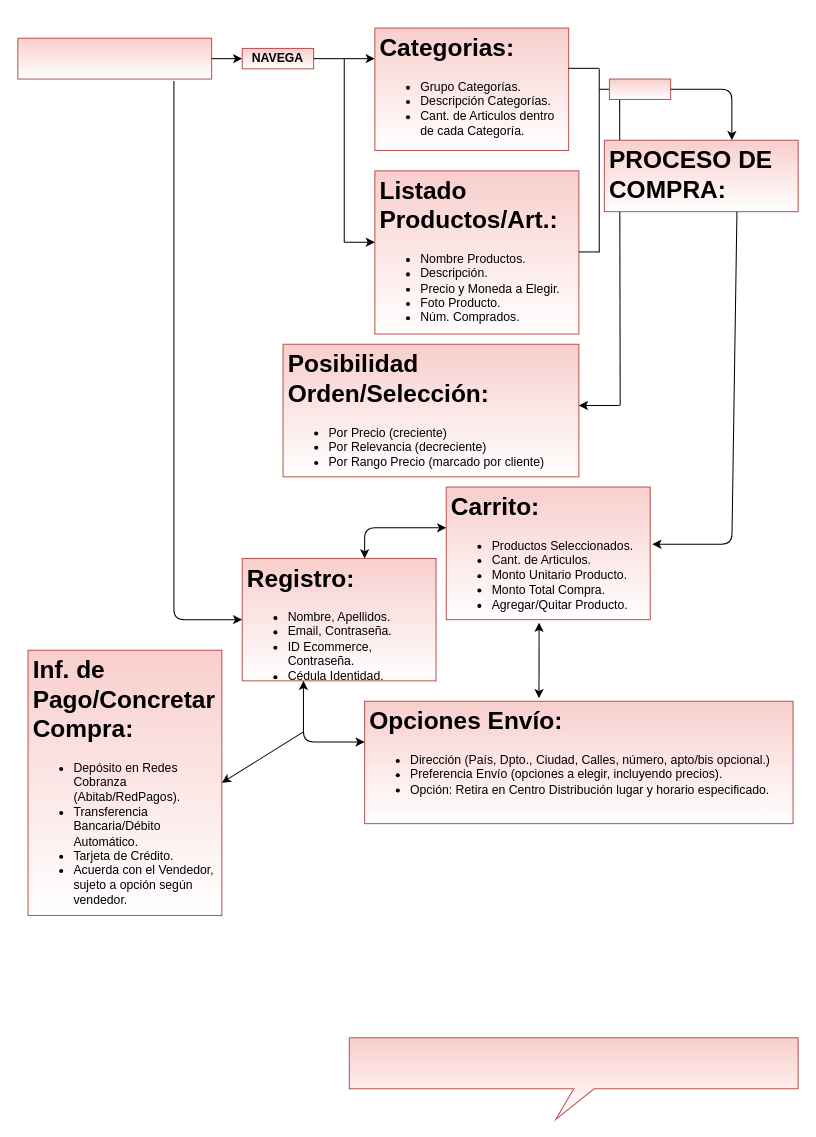
The diagram is 816 pixels wide and 1137 high, and some of its shapes have lost their labels. The shapes that lost their labels are listed below. From the top down, each one's centre as x and y in pixels, then its label:
At point 114,58: "Usuario/Cliente".
At point 639,88: "TIENE".
At point 573,1078: "Diagrama Entidad Relación, proyecto Ecommerce. Noemi Olivera - Grupo 127".
